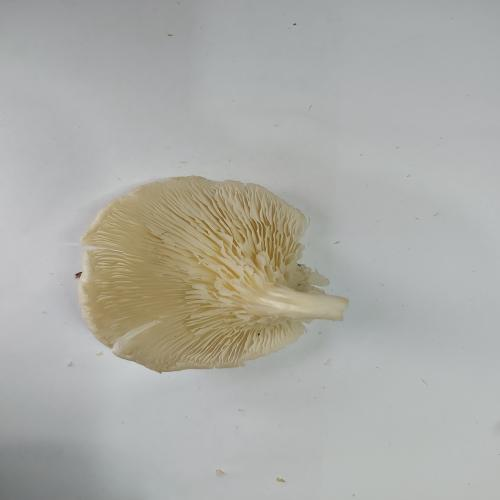Oyster Mushroom: (76, 175, 349, 374)
